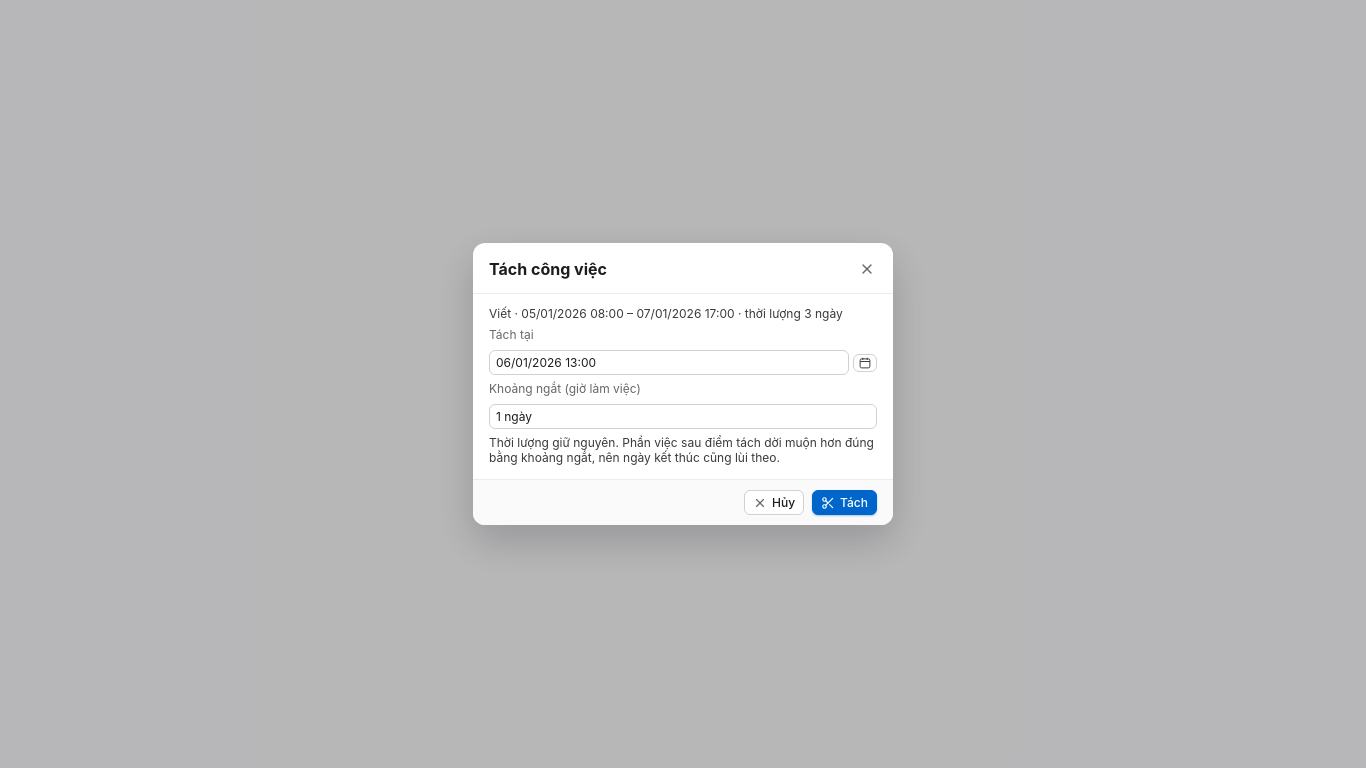
it: SplitDialog › suggests the middle of the task on the hour and keeps the point inside it
Replace the text in the field named "Thời điểm tách" with "08/01/2026 08:00": x=669, y=362 [489,350,849,375]
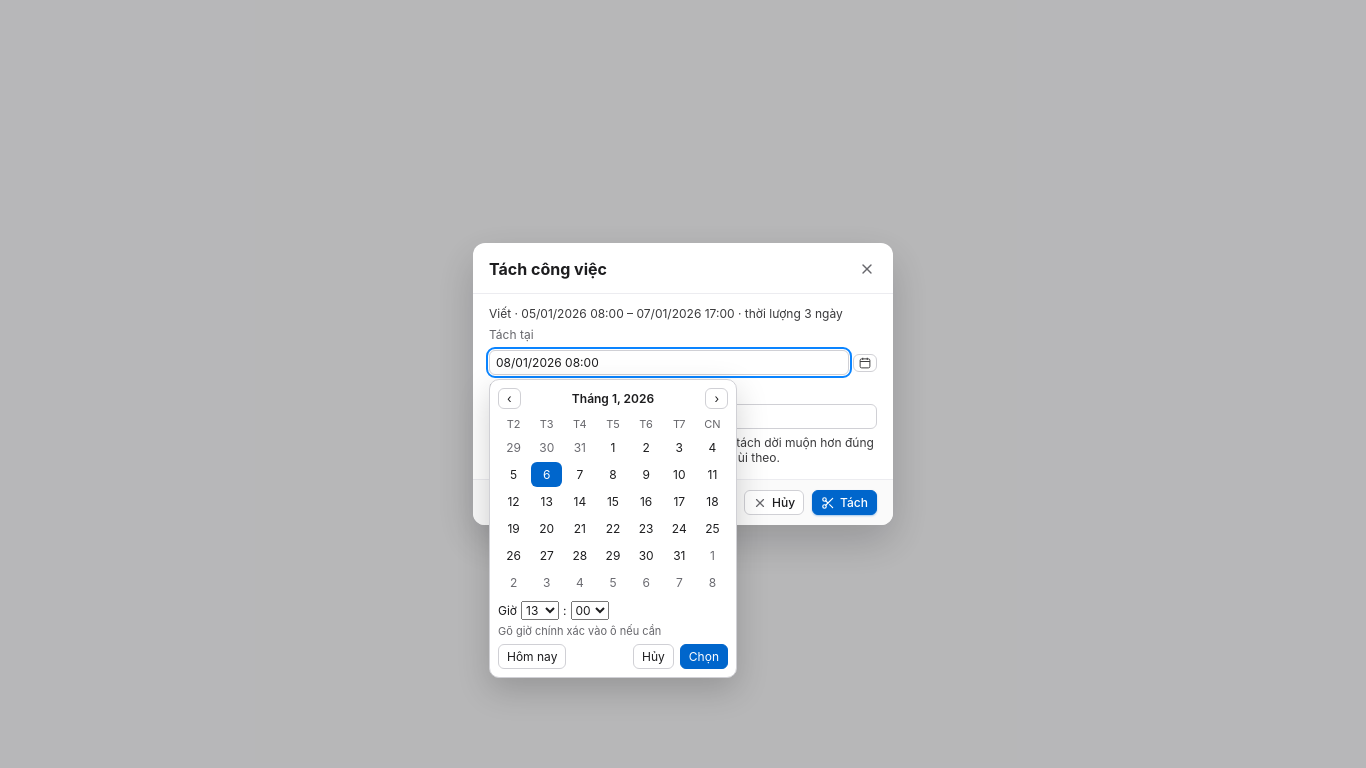
Press Tab
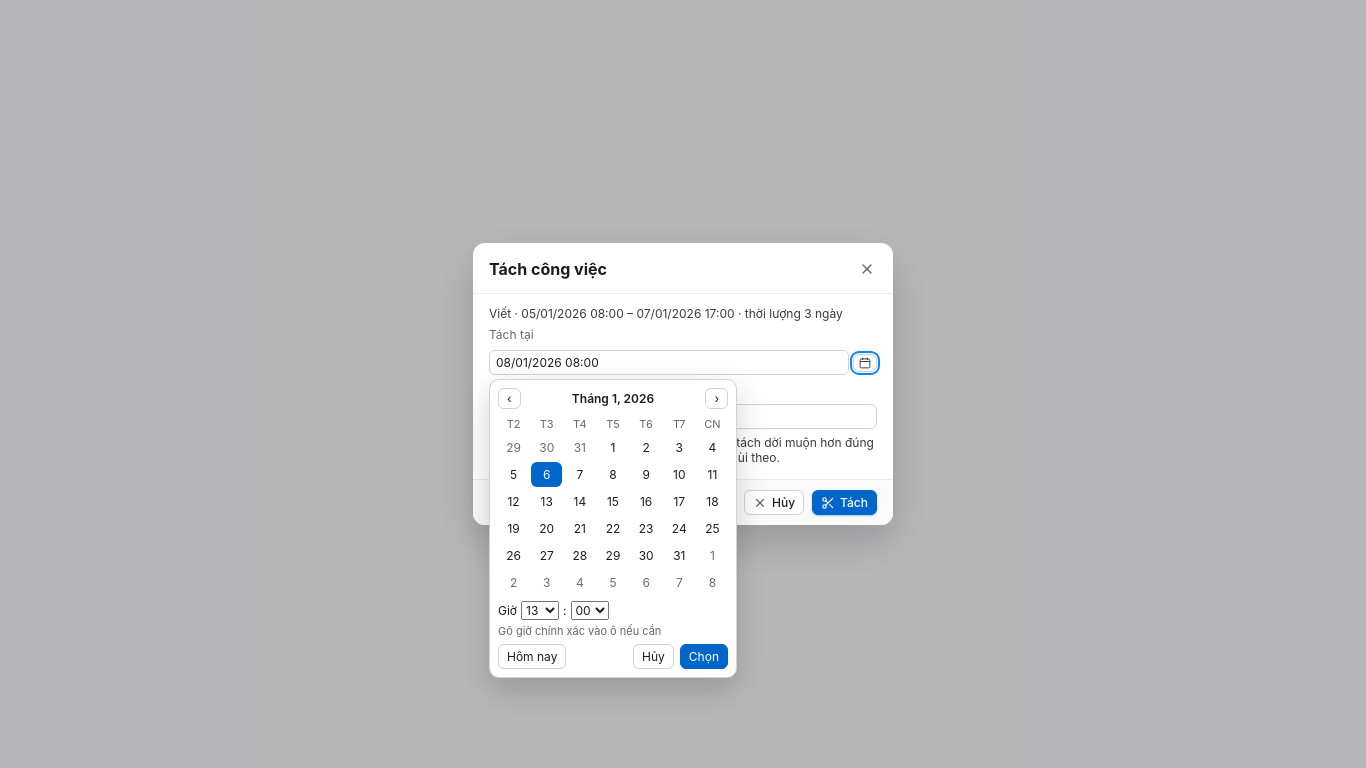
Click the button "Tách": x=845, y=502 [812,490,877,515]
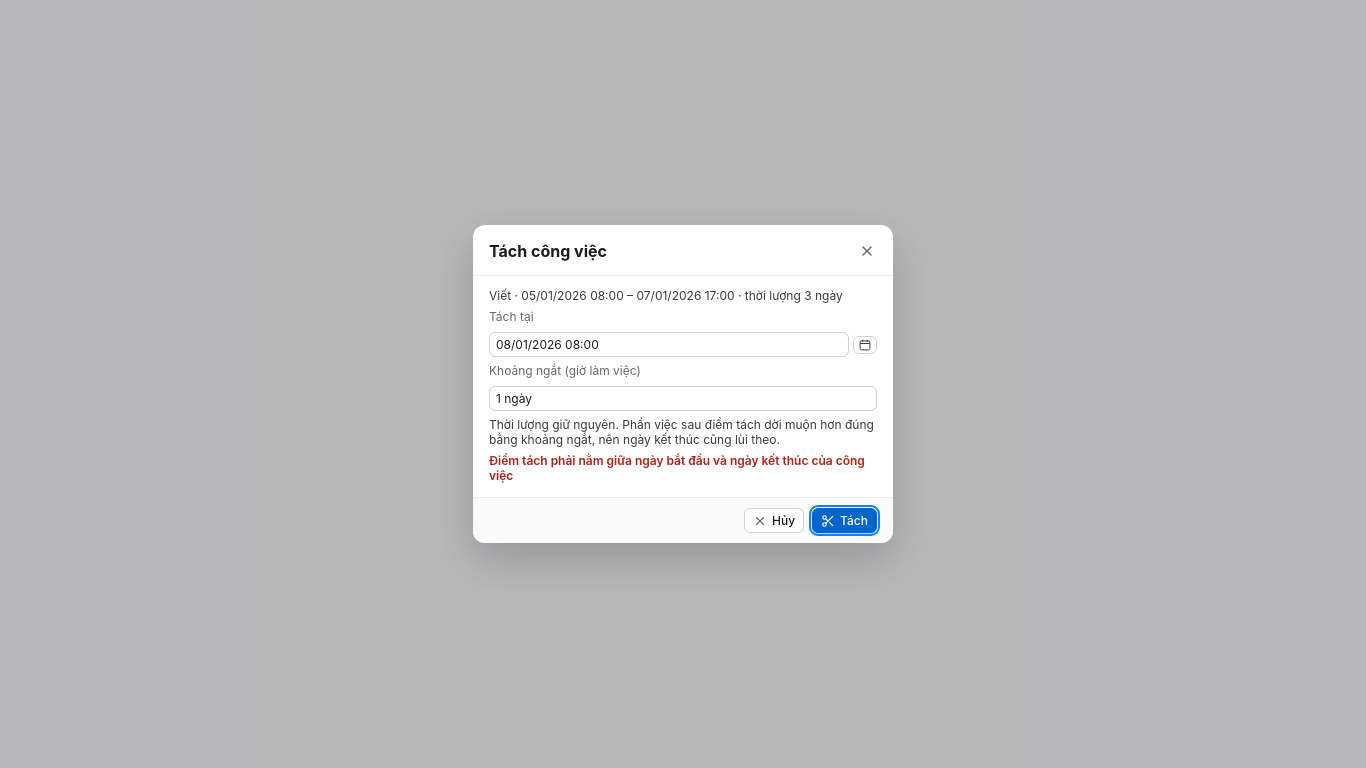
Now the text "Điểm tách phải nằm" is shown, box [489,453,865,483]
